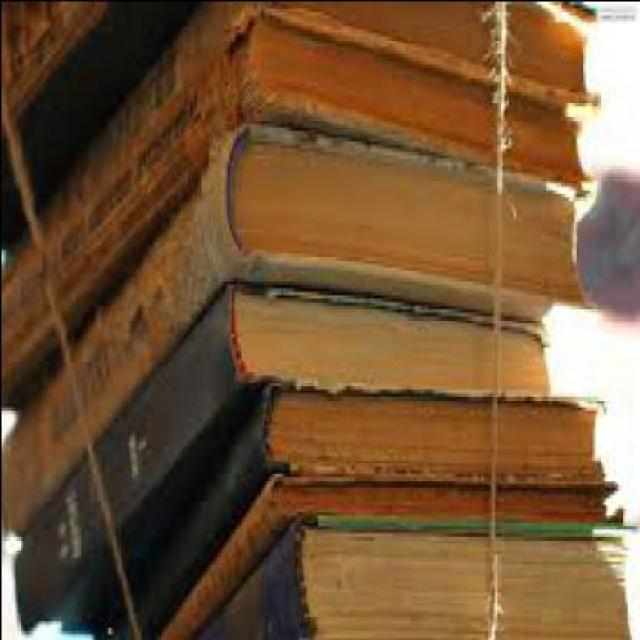PAPER: (2, 118, 586, 560), (0, 4, 594, 413), (9, 283, 546, 639), (3, 3, 591, 308), (88, 388, 603, 638), (150, 476, 624, 638), (183, 524, 628, 638)
